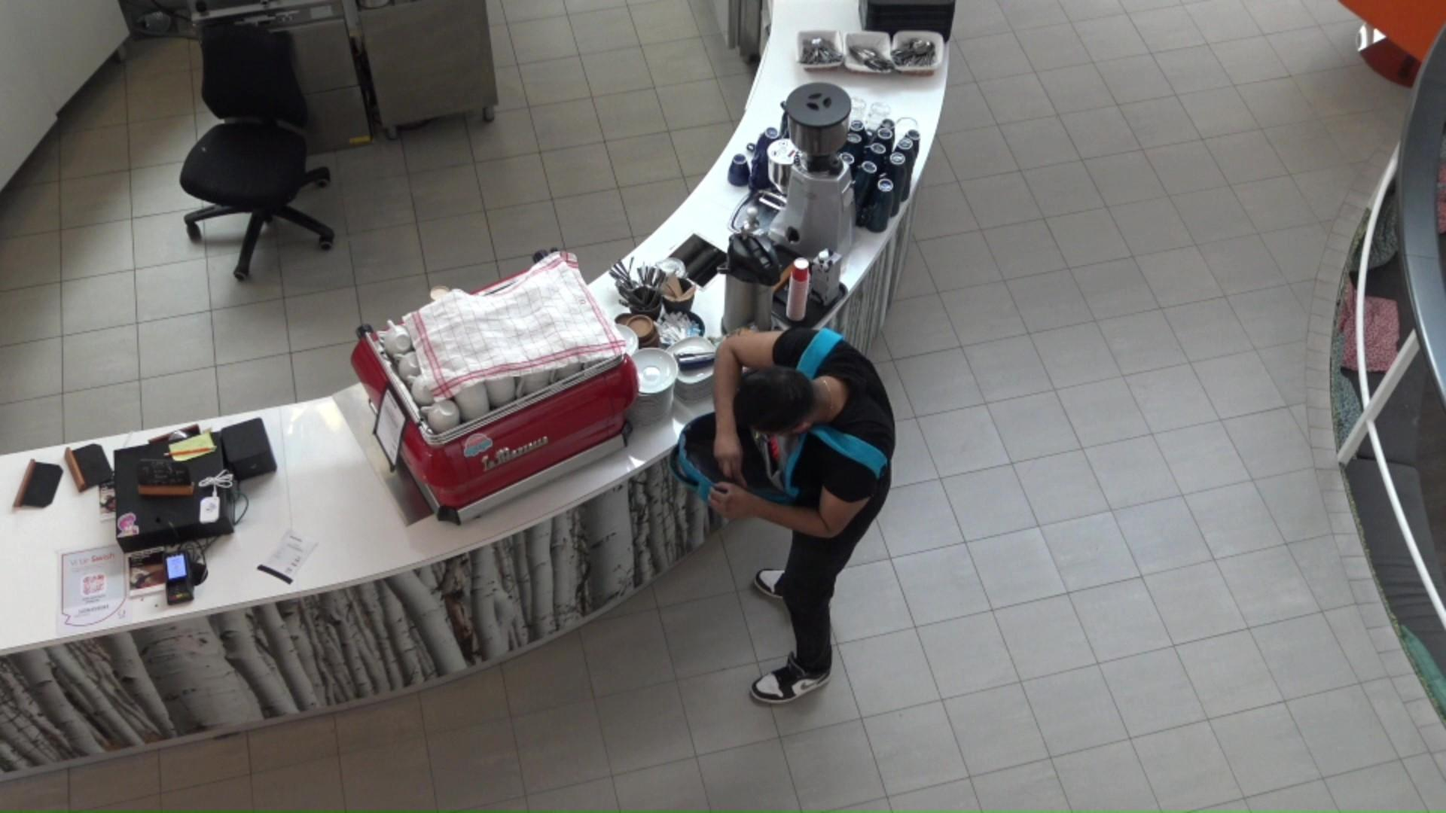shoplifting: (682, 332, 899, 706)
